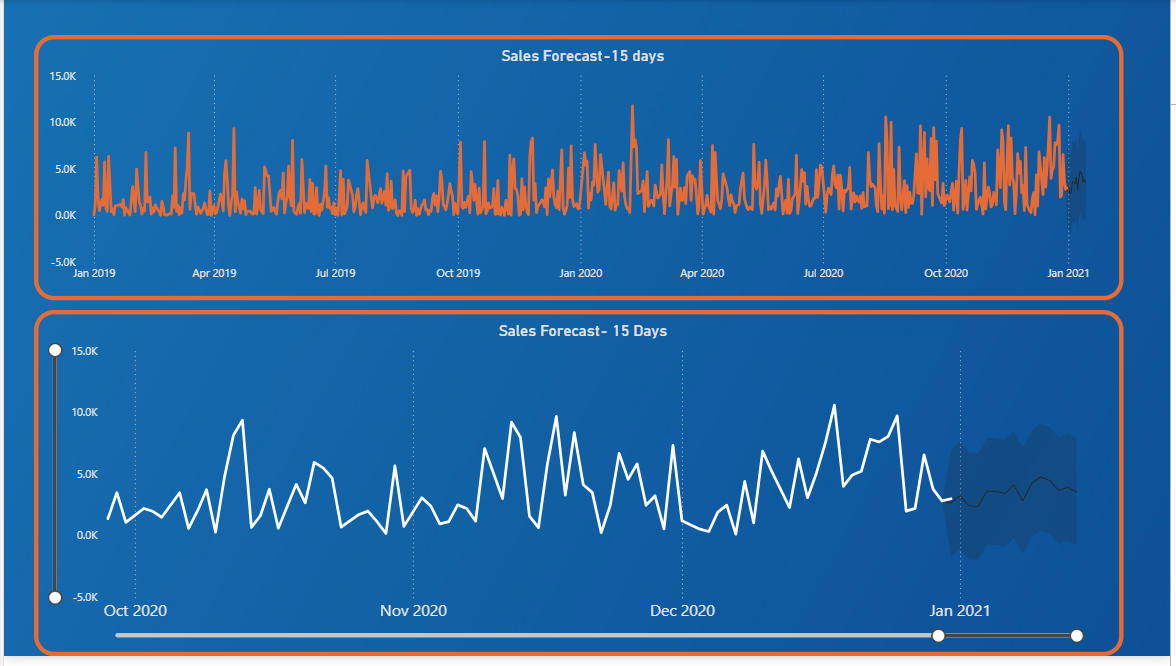

Layout of this report page (visuals, bound fields, positions):
{"tool":"powerbi","page":{"name":"Page 2","canvas":[1280,720],"ordinal":1},"visuals":[{"type":"lineChart","title":"Sales Forecast-15 days","fields":{"Y":["Sum(SuperStore_Sales_Dataset.Sales)"],"Category":["SuperStore_Sales_Dataset.Order Date"]},"box":[32.9,38.6,1195.7,291.4],"z":0},{"type":"lineChart","title":"Sales Forecast-  15 Days","fields":{"Y":["Sum(SuperStore_Sales_Dataset.Sales)"],"Category":["SuperStore_Sales_Dataset.Order Date"]},"box":[32.9,340,1195.7,380],"z":1}]}

Visuals, with their boxes in screenshot pixels (x1, y1, x2, y2), scaled from the page's 1280x720 canvas onto the 1176x666 screenshot:
"Sales Forecast-15 days" lineChart: box(30, 36, 1129, 305)
"Sales Forecast-  15 Days" lineChart: box(30, 314, 1129, 665)
